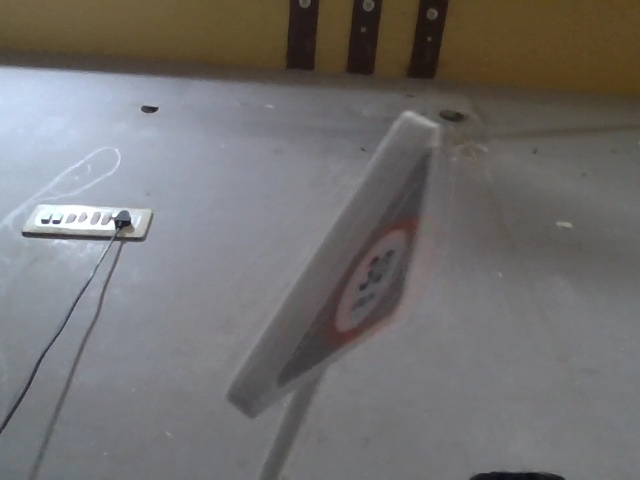speedlimit: (236, 98, 436, 410)
